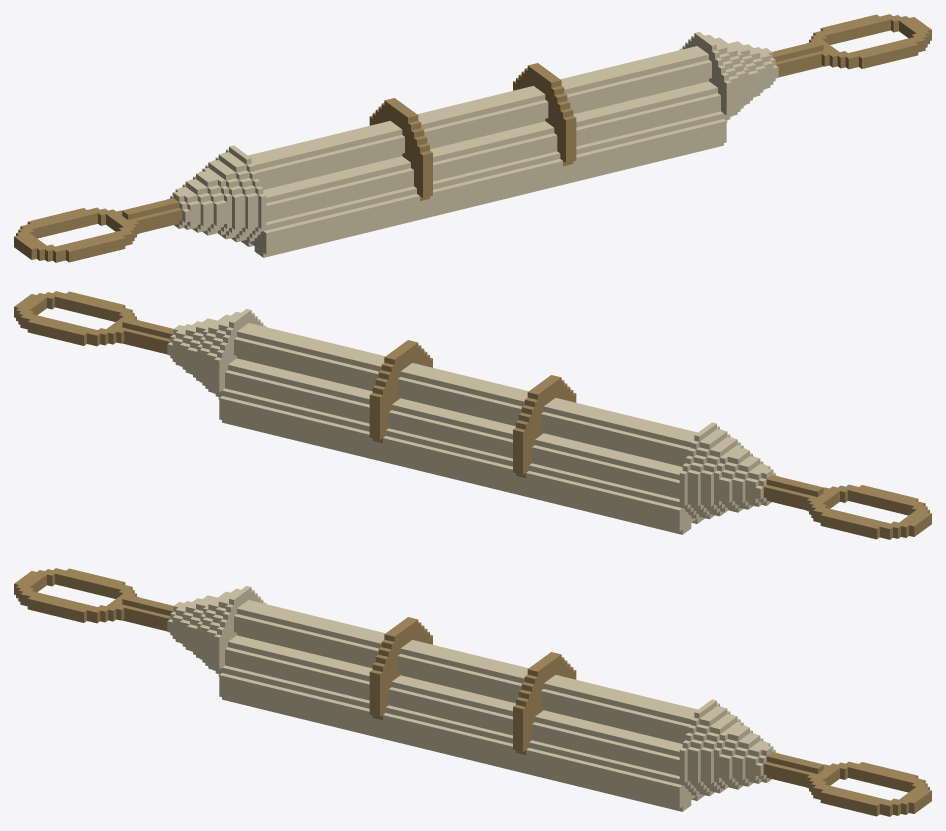
The model's file is hammock_net.glb.
3 renders of one model, top to bottom at view 1: azimuth 30°, elevation 25°; view 2: azimuth 150°, elevation 25°; view 3: azimuth 330°, elevation 25°, orthographic.
Visible parts, largest first — view 1: hammock_net:compound; view 2: hammock_net:compound; view 3: hammock_net:compound.
Boxes of the visible parts, bbox=[...] form: hammock_net:compound: bbox=[14, 14, 931, 262]; hammock_net:compound: bbox=[14, 291, 931, 539]; hammock_net:compound: bbox=[14, 568, 931, 816].
Size of the model in its own units: 0.704 by 0.072 by 0.072.
